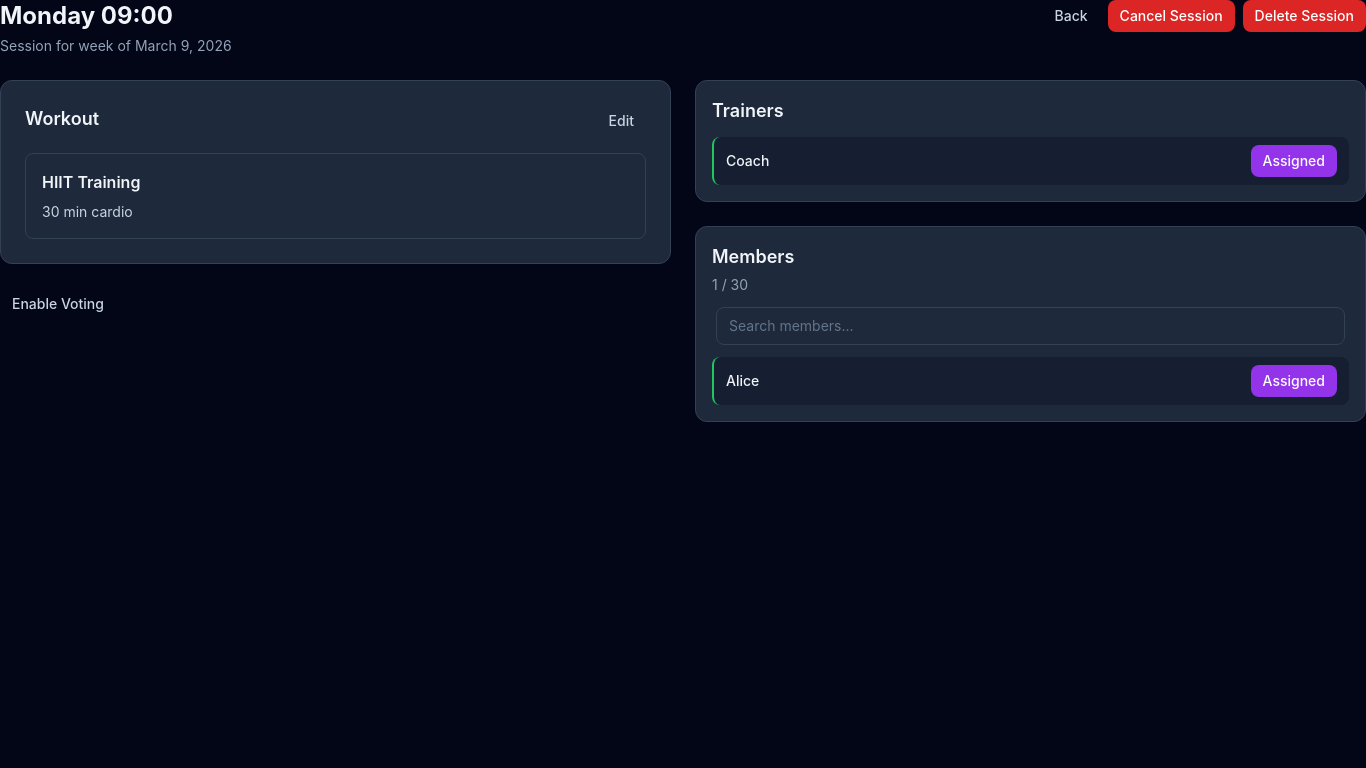
Test case: SessionDetailClient — Confirmation Modals › cancel session modal › opens cancel modal when Cancel Session button is clicked
The width and height of the screenshot is (1366, 768).
Step 1. Click the button "Cancel Session" → [1171, 16], box [1108, 0, 1235, 32]
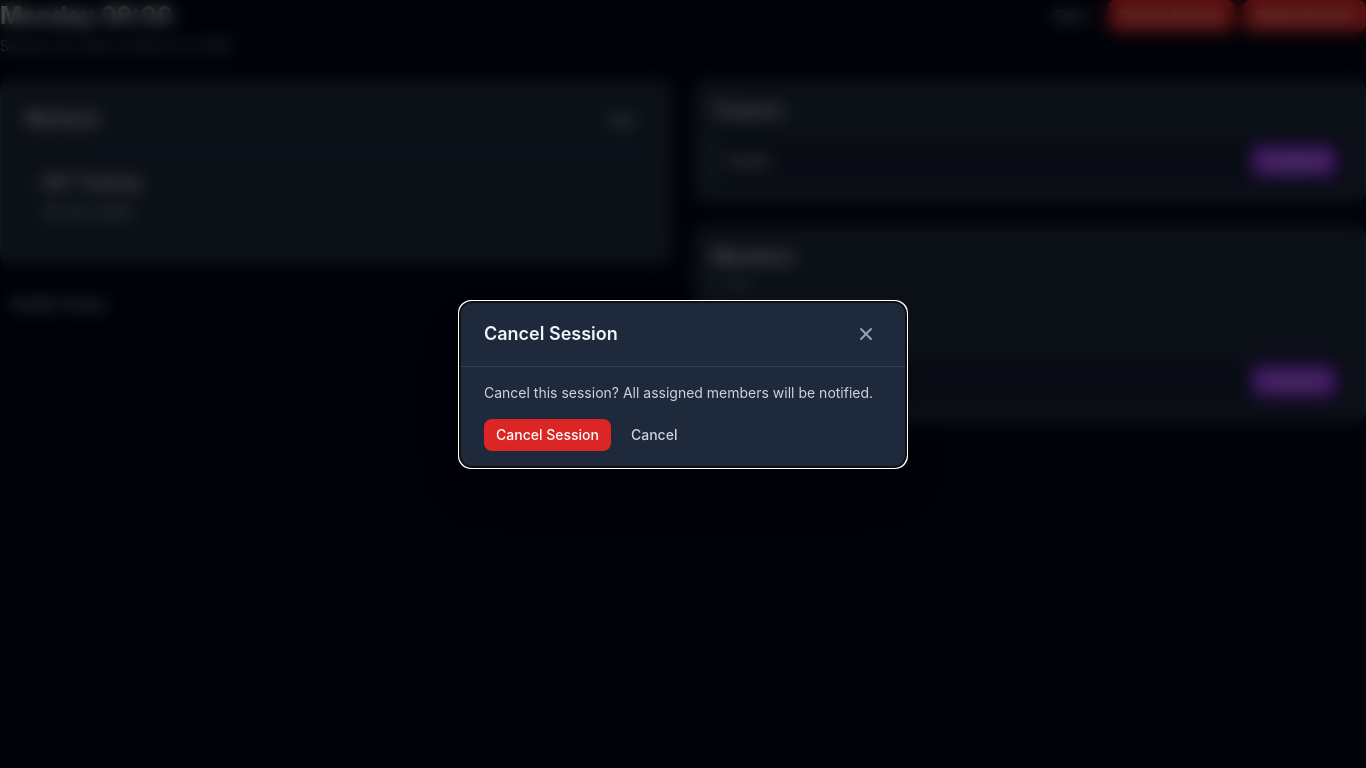
Now the text "Cancel this session? All assigned members will be notified." is shown, box [484, 382, 882, 402]
Now the dialog is shown, box [459, 300, 907, 468]
